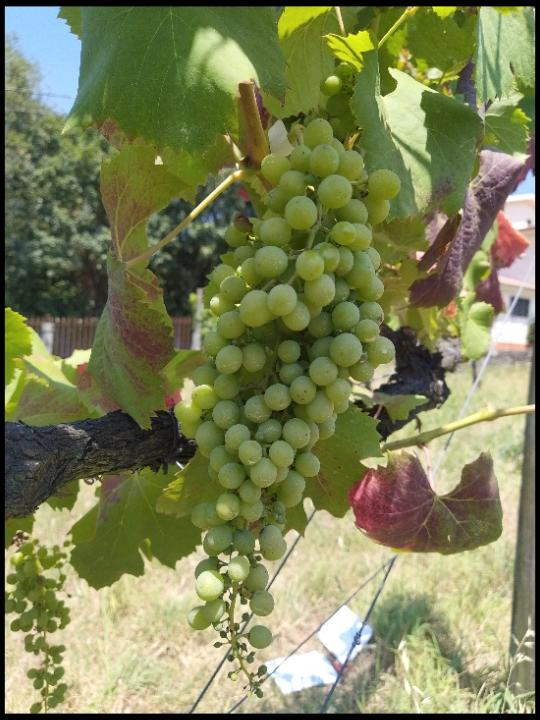grape: (174, 60, 398, 700), (8, 534, 81, 711)
